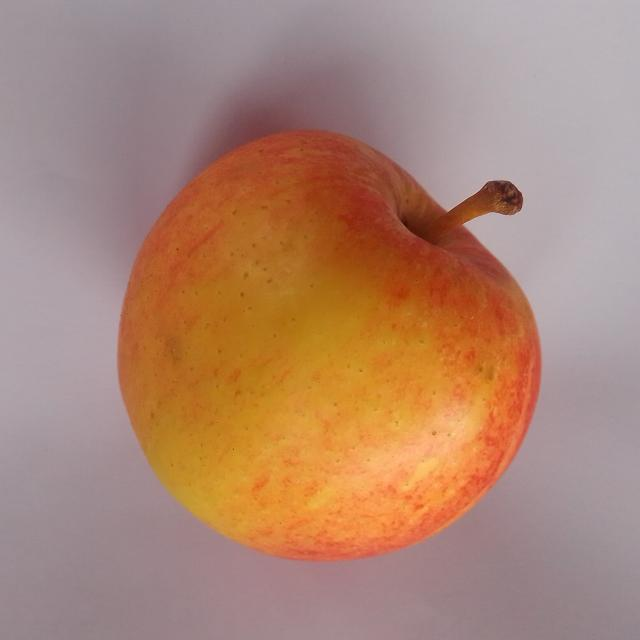apple: (119, 131, 540, 559)
